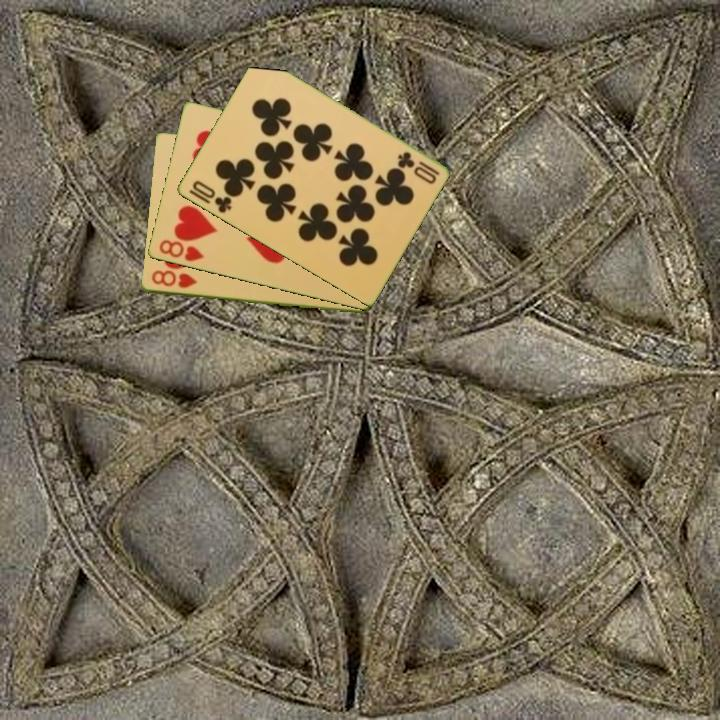10c: (393, 148, 442, 187), (188, 177, 234, 216)
8h: (155, 236, 206, 265), (148, 267, 199, 291)
